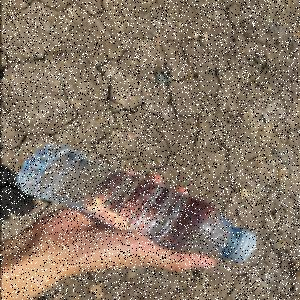Plastic-bottle: (14, 142, 260, 268)
